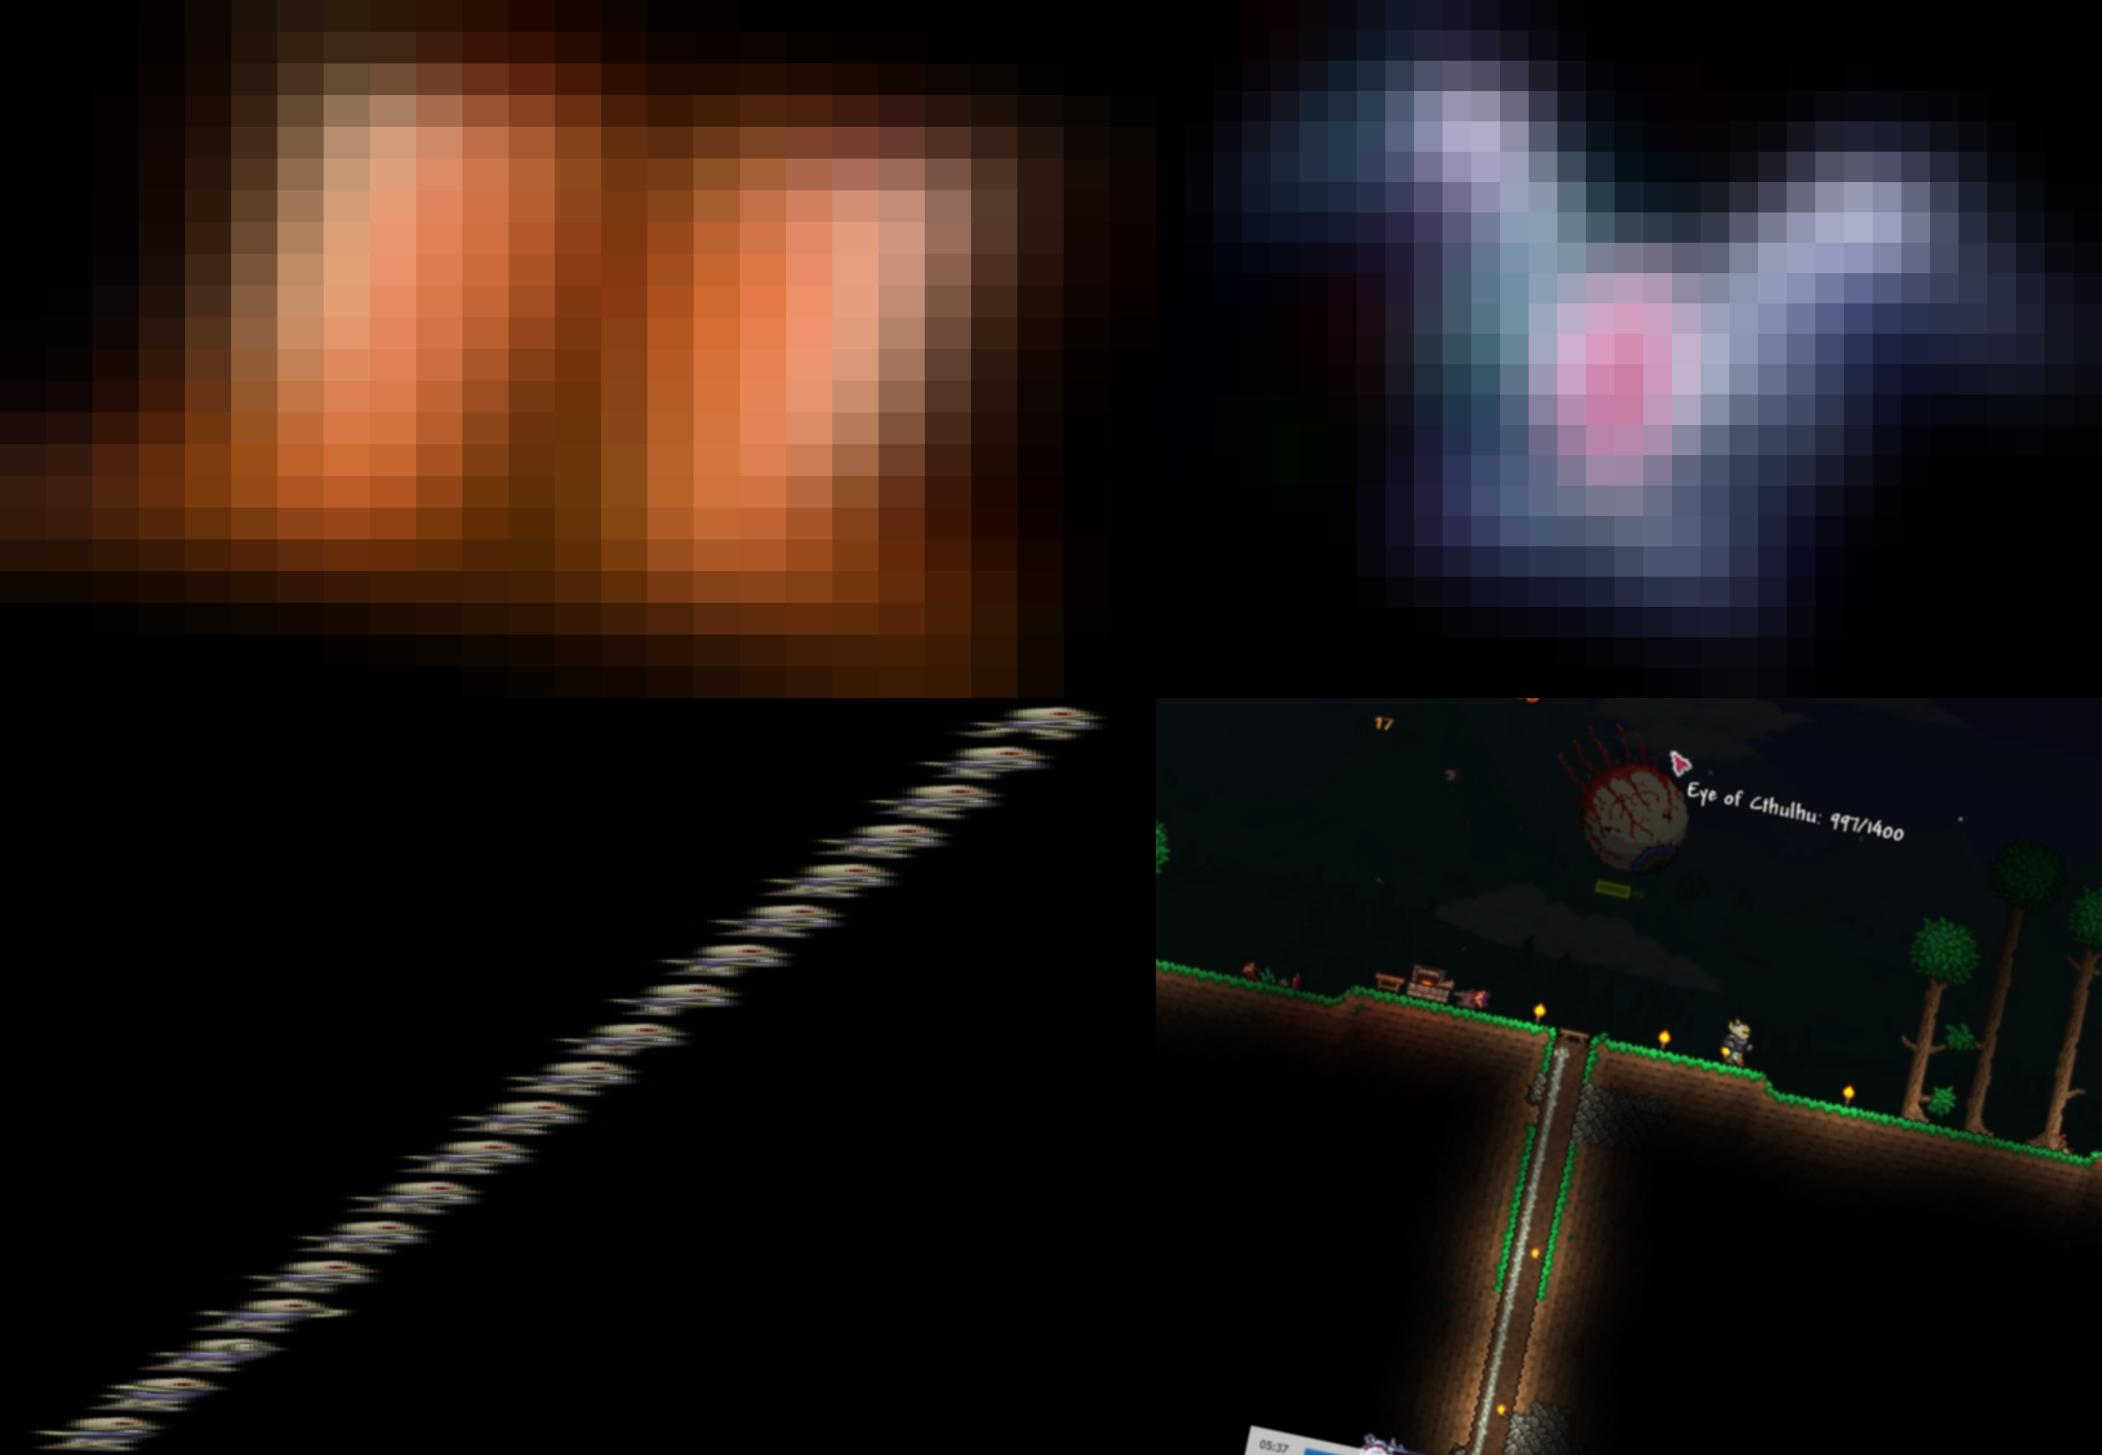breastplate: (1156, 0, 2102, 698)
eyeC: (1527, 708, 1722, 885)
legs: (0, 0, 1156, 698)
zombie: (931, 700, 1153, 744)
